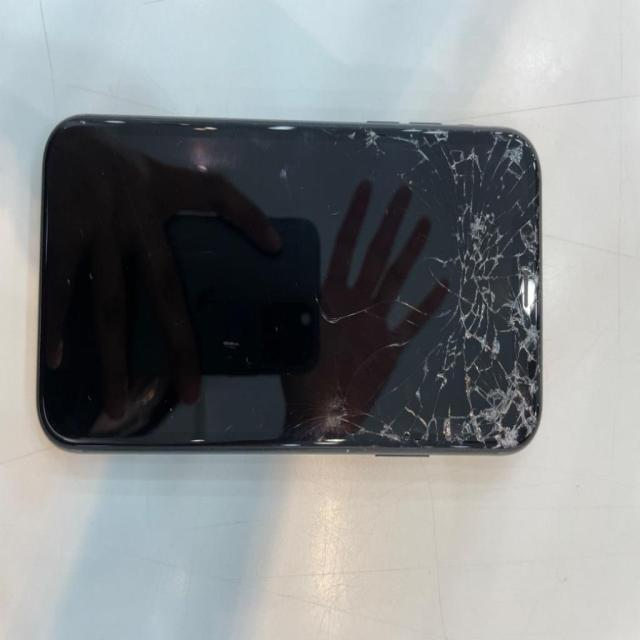Crack: (321, 302, 538, 445), (338, 117, 545, 202)
